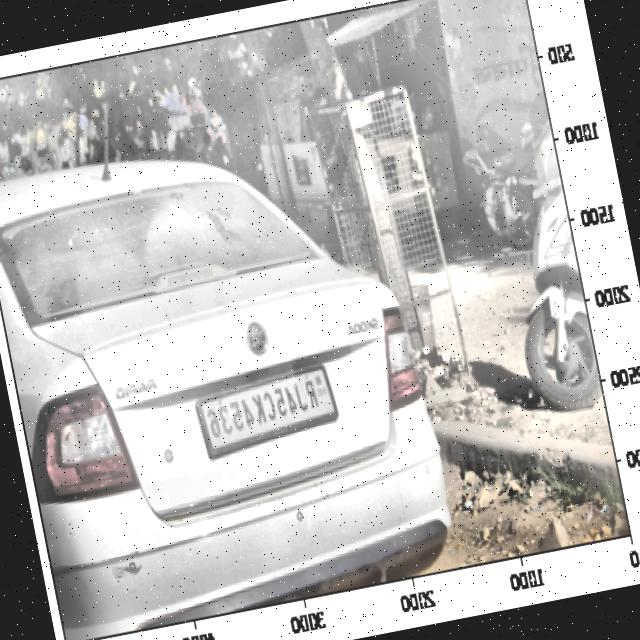license_plate: (194, 374, 328, 453)
